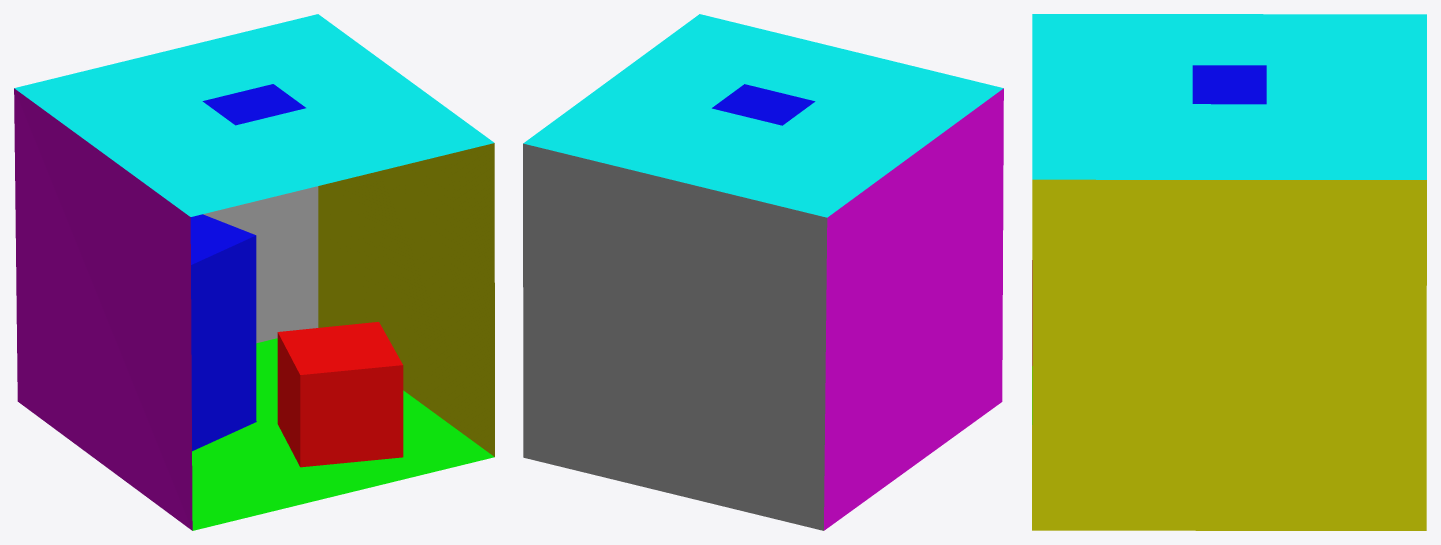
File: cornell-box.obj
3 views of the same model, side by side, from view 1: azimuth 30°, elevation 25°; view 2: azimuth 150°, elevation 25°; view 3: azimuth 270°, elevation 25° (orthographic). The views are drawn at different scales.
Parts seen in each view (by area): view 1: left_wall, ceiling, right_wall, floor, short_box, tall_box, back_wall, NewLight; view 2: back_wall, left_wall, ceiling, NewLight; view 3: right_wall, ceiling, NewLight.
Part boxes in pixels (<box>): left_wall: <box>14,88,192,530</box>; ceiling: <box>14,14,494,216</box>; right_wall: <box>318,143,494,456</box>; floor: <box>192,338,494,530</box>; short_box: <box>277,322,403,467</box>; tall_box: <box>190,214,256,451</box>; back_wall: <box>203,186,318,343</box>; NewLight: <box>202,84,305,125</box>; back_wall: <box>523,143,827,530</box>; left_wall: <box>824,88,1003,530</box>; ceiling: <box>523,14,1003,217</box>; NewLight: <box>712,84,815,125</box>; right_wall: <box>1032,179,1426,530</box>; ceiling: <box>1032,14,1426,179</box>; NewLight: <box>1192,65,1266,104</box>.
Bounding box in the file's own units: 5.56 × 5.68 × 5.6.
